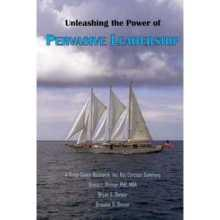fanchuan: (65, 81, 161, 153)
